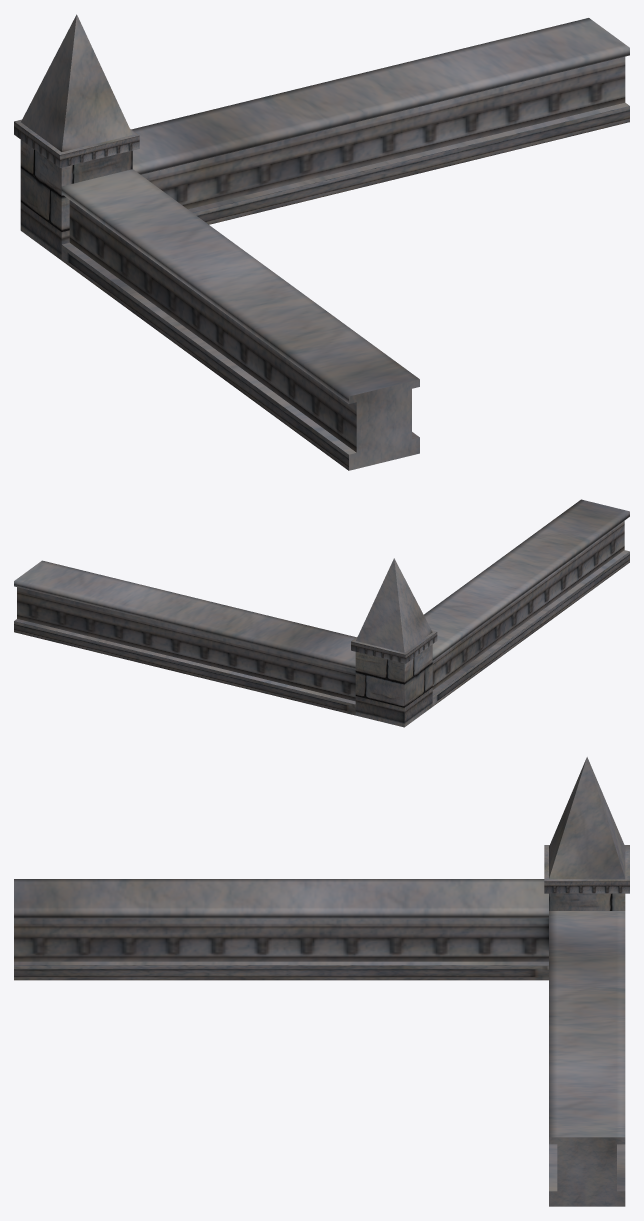
Rendered from railing_outside_inner_corner_01.glb.
3 renders of one model, top to bottom at view 1: azimuth 30°, elevation 25°; view 2: azimuth 150°, elevation 25°; view 3: azimuth 270°, elevation 25°, orthographic. The views are drawn at different scales.
Parts seen in each view (by area): view 1: railing_outside_inner_corner_01; view 2: railing_outside_inner_corner_01; view 3: railing_outside_inner_corner_01.
Part boxes in pixels (x1,y1,x2,y2): railing_outside_inner_corner_01: (14, 14, 629, 470); railing_outside_inner_corner_01: (14, 499, 629, 727); railing_outside_inner_corner_01: (14, 757, 629, 1206).
Size of the model in its own units: 8.06 by 3 by 8.06.
1 material, 1 textured.
